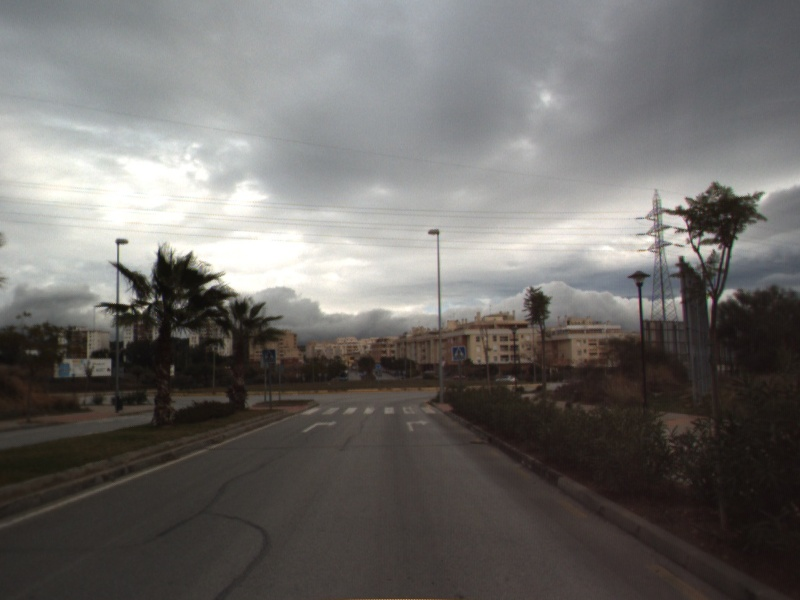RIGHT: (300, 418, 339, 434), (404, 417, 431, 433)
